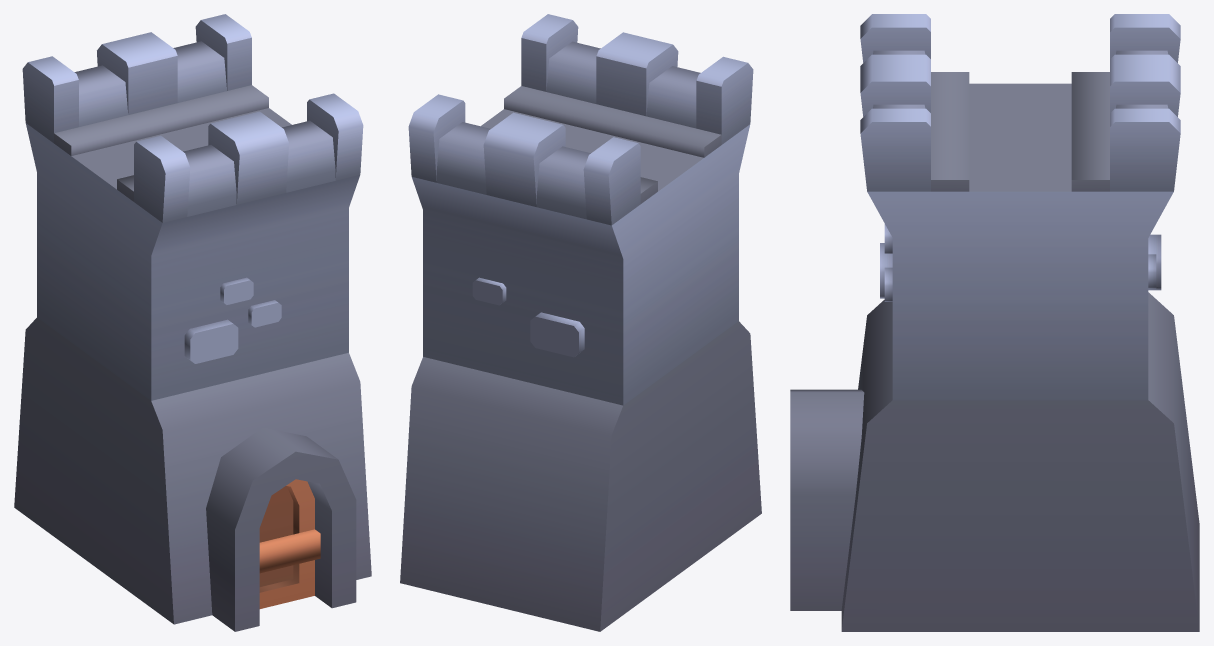
The model's file is castle-door.glb.
3 renders of one model, left to right at view 1: azimuth 30°, elevation 25°; view 2: azimuth 150°, elevation 25°; view 3: azimuth 270°, elevation 25°, orthographic. The views are drawn at different scales.
Parts seen in each view (by area): view 1: castle-door; view 2: castle-door; view 3: castle-door.
Boxes of the visible parts, box(x1,y1,x2,y2) form: castle-door: box(14, 14, 371, 631); castle-door: box(400, 14, 761, 631); castle-door: box(790, 14, 1199, 631).
Size of the model in its own units: 2 by 4.4 by 3.2.
1 material, 1 textured.
